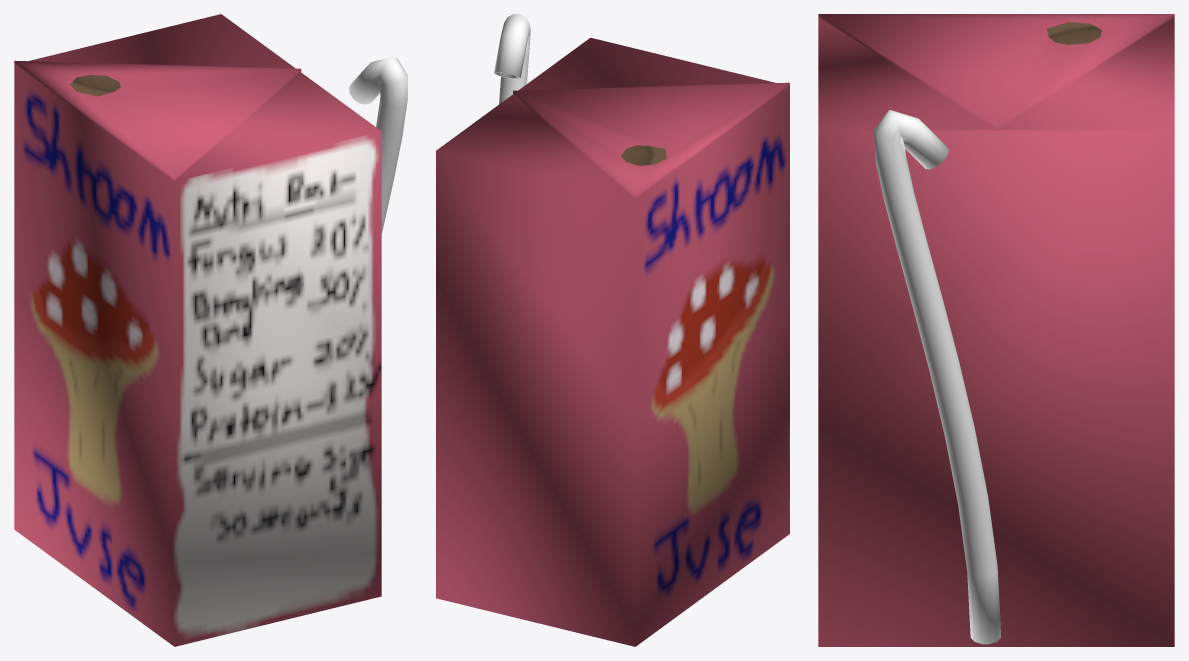
Rendered from item-shroom-juse.glb.
3 views of the same model, side by side, from view 1: azimuth 30°, elevation 25°; view 2: azimuth 150°, elevation 25°; view 3: azimuth 270°, elevation 25° (orthographic). The views are drawn at different scales.
Size of the model in its own units: 0.0768 by 0.14 by 0.0808.
3 materials, 2 textured.
